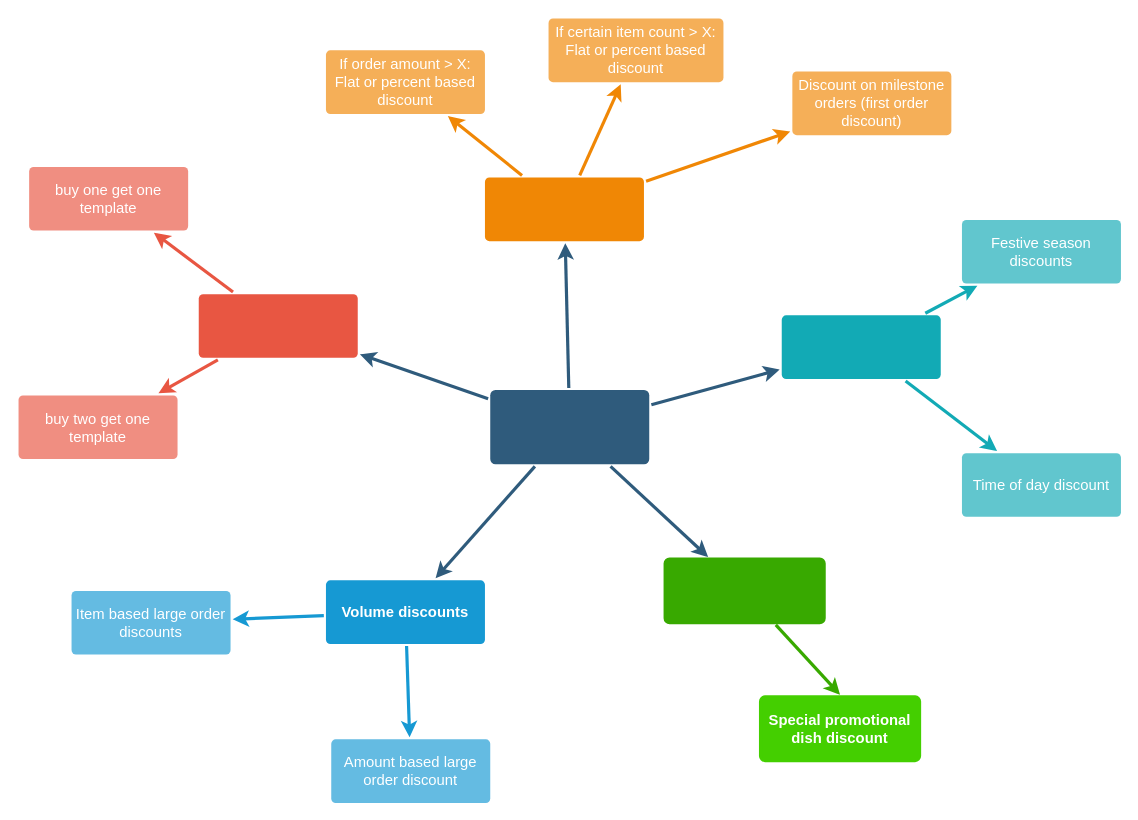
Some shapes in this 1138 by 820 pixel diagram are drawn without their labels. The shapes that lost their labels are listed below. From the top down, each one's box as (x1, y1, x2, y2) in pixels, then its label:
(484, 177, 643, 241): Flat discounts
(198, 294, 357, 357): Buy and get
(781, 315, 940, 378): Time based discounts
(490, 390, 649, 464): The Discount Engine
(663, 557, 825, 624): Featured item discounts
